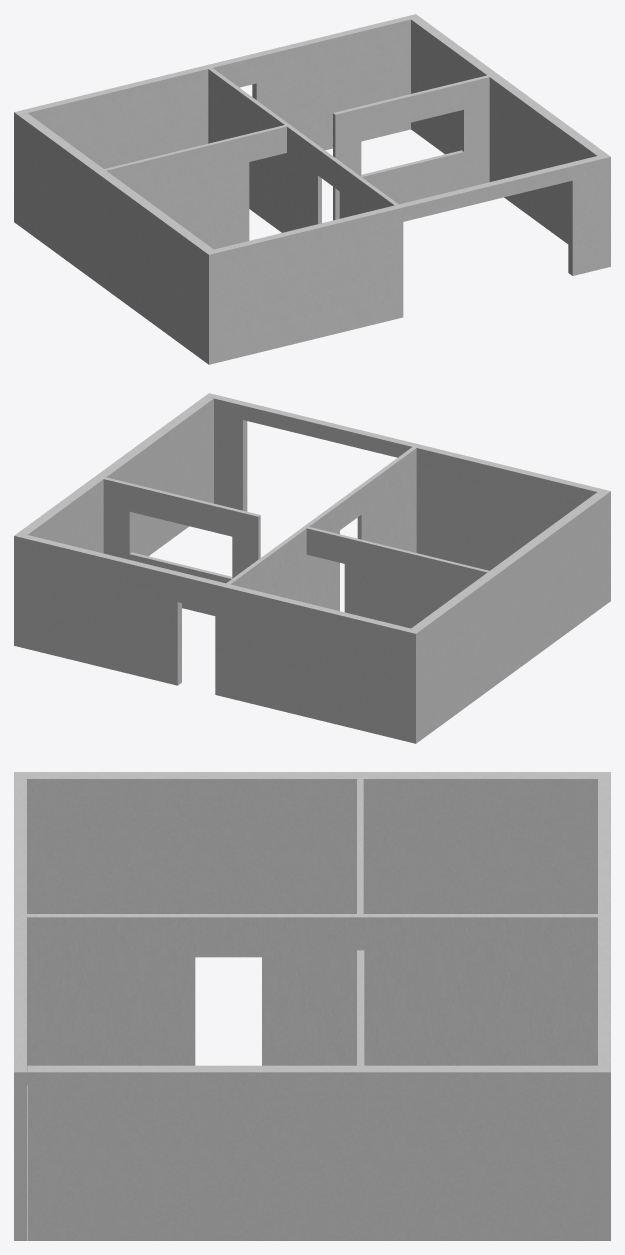
The model's file is wall2.fbx.
3 views of the same model, one above another, from view 1: azimuth 30°, elevation 25°; view 2: azimuth 150°, elevation 25°; view 3: azimuth 270°, elevation 25° (orthographic). The views are drawn at different scales.
Parts seen in each view (by area): view 1: pasted__Wall1, pasted__Wall4, pasted__Wall3, pasted__Wall2, pasted__Wall5, pasted__Wall6, pasted__Wall7, pasted__Pillar1, pasted__Pillar2, pasted__Pillar4; view 2: pasted__Wall4, pasted__Wall3, pasted__Wall1, pasted__Wall2, pasted__Wall5, pasted__Wall7, pasted__Wall6, pasted__Pillar4, pasted__Pillar3, pasted__Pillar1; view 3: pasted__Wall2, pasted__Wall3, pasted__Wall5, pasted__Wall1, pasted__Wall4, pasted__Pillar2, pasted__Pillar3, pasted__Wall7, pasted__Wall6.
Boxes of the visible parts, left/top/right/bottom form: pasted__Wall1: left=214, top=156, right=601, bottom=362; pasted__Wall4: left=24, top=16, right=410, bottom=168; pasted__Wall3: left=18, top=113, right=213, bottom=361; pasted__Wall2: left=411, top=17, right=606, bottom=243; pasted__Wall5: left=208, top=68, right=398, bottom=232; pasted__Wall6: left=333, top=75, right=489, bottom=220; pasted__Wall7: left=104, top=125, right=286, bottom=249; pasted__Pillar1: left=204, top=249, right=218, bottom=364; pasted__Pillar2: left=598, top=153, right=610, bottom=268; pasted__Pillar4: left=14, top=110, right=26, bottom=224; pasted__Wall4: left=23, top=535, right=410, bottom=741; pasted__Wall3: left=411, top=492, right=606, bottom=740; pasted__Wall1: left=214, top=395, right=600, bottom=570; pasted__Wall2: left=18, top=396, right=213, bottom=556; pasted__Wall5: left=226, top=447, right=416, bottom=610; pasted__Wall7: left=306, top=527, right=488, bottom=628; pasted__Wall6: left=103, top=477, right=260, bottom=615; pasted__Pillar4: left=406, top=628, right=420, bottom=743; pasted__Pillar3: left=14, top=532, right=26, bottom=647; pasted__Pillar1: left=598, top=489, right=610, bottom=603; pasted__Wall2: left=27, top=1065, right=597, bottom=1240; pasted__Wall3: left=27, top=772, right=597, bottom=913; pasted__Wall5: left=27, top=914, right=597, bottom=1085; pasted__Wall1: left=14, top=779, right=26, bottom=1065; pasted__Wall4: left=598, top=779, right=610, bottom=1065; pasted__Pillar2: left=14, top=1065, right=26, bottom=1240; pasted__Pillar3: left=598, top=1065, right=610, bottom=1240; pasted__Wall7: left=357, top=779, right=363, bottom=913; pasted__Wall6: left=357, top=950, right=364, bottom=1065.
Size of the model in its own units: 23.99 by 6.27 by 20.15.
Materials: 1 (1 with a texture image).
